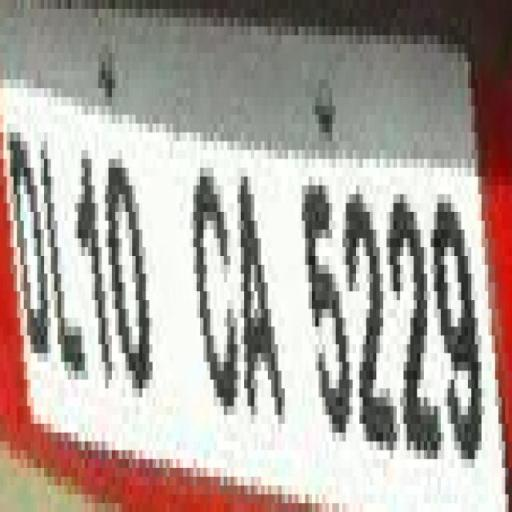number plate: (0, 96, 506, 503)
